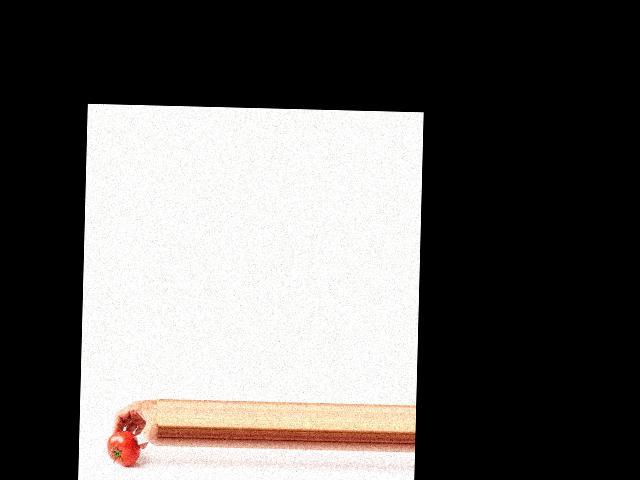tomato: (106, 430, 140, 466)
